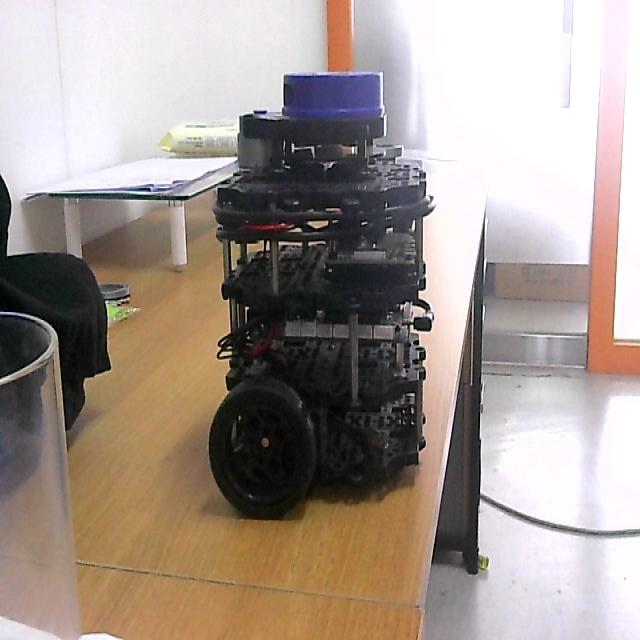turtle: (206, 70, 435, 522)
